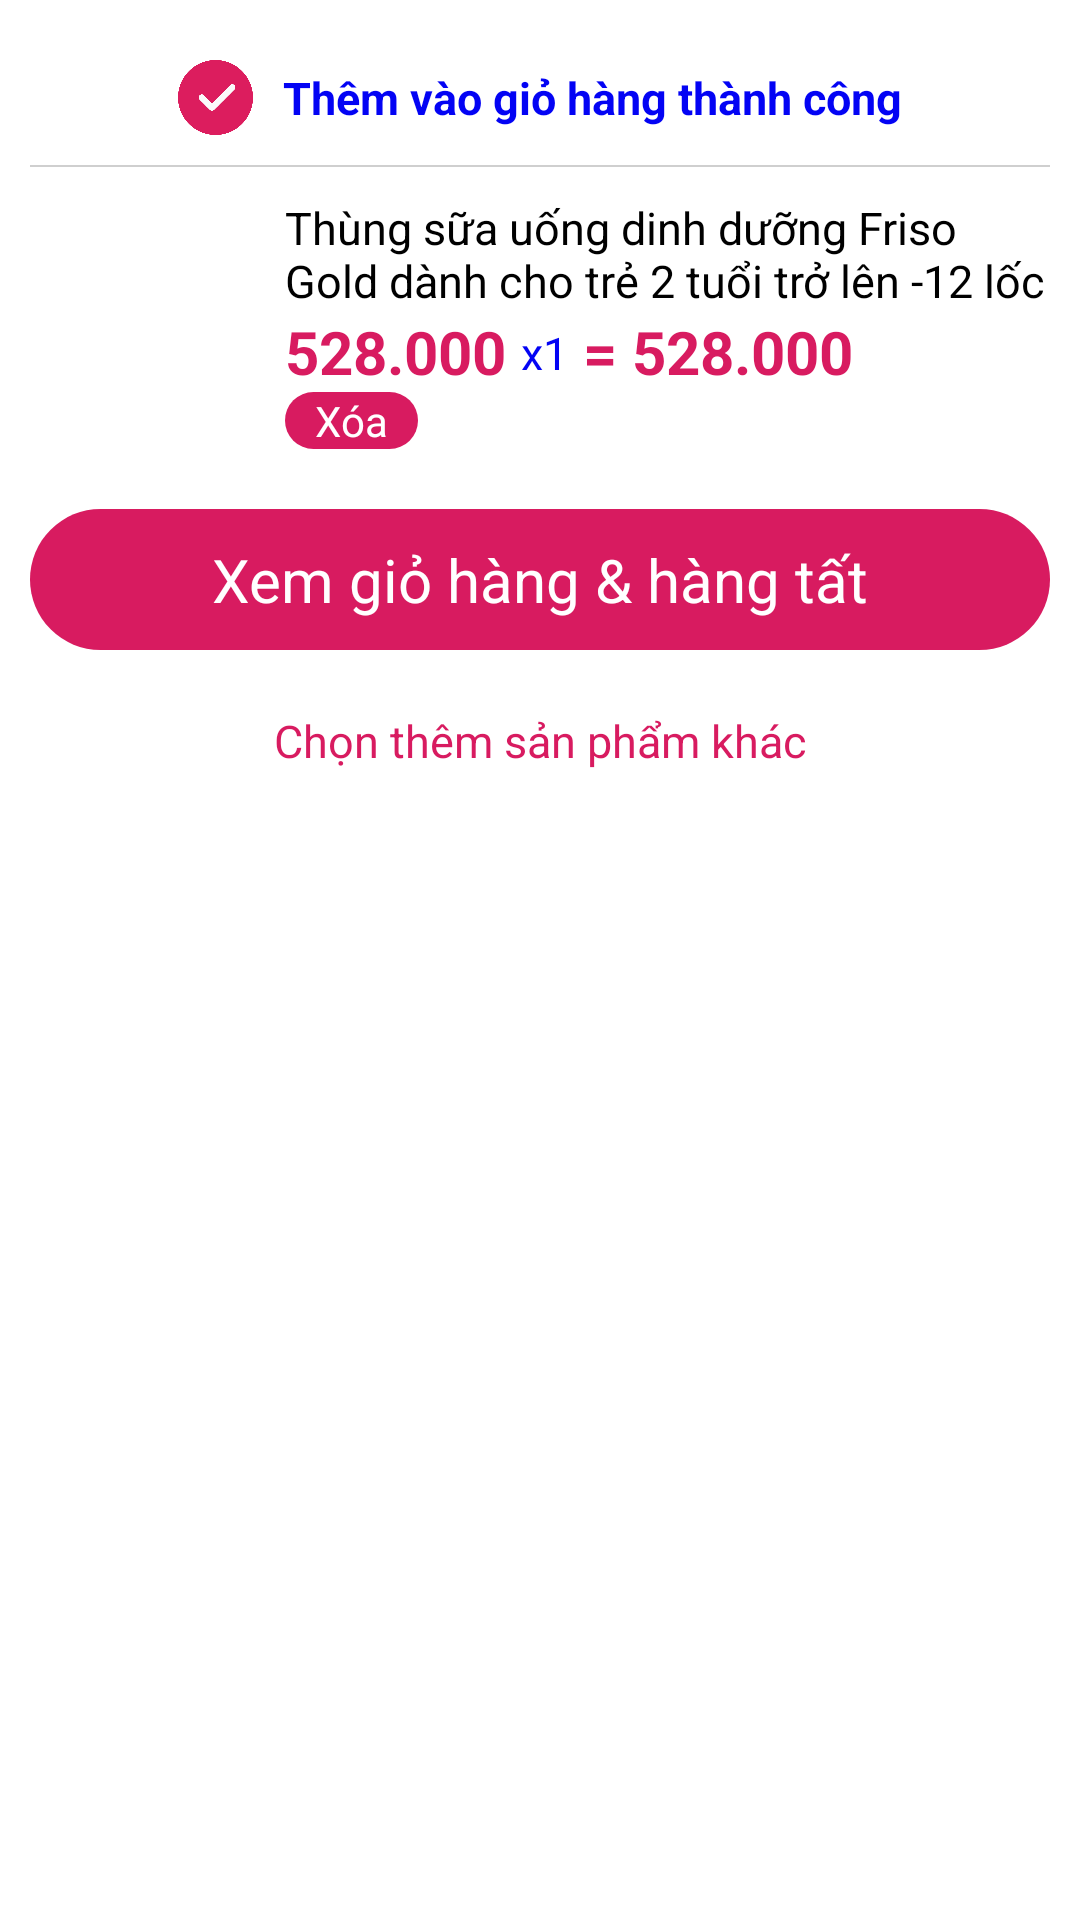

Icons on this 1080w x 1920h Android screen, each with its box as (x1=x1, y1=y1, x2=x2, y2=y2):
correct: (x1=178, y1=60, x2=253, y2=135)
